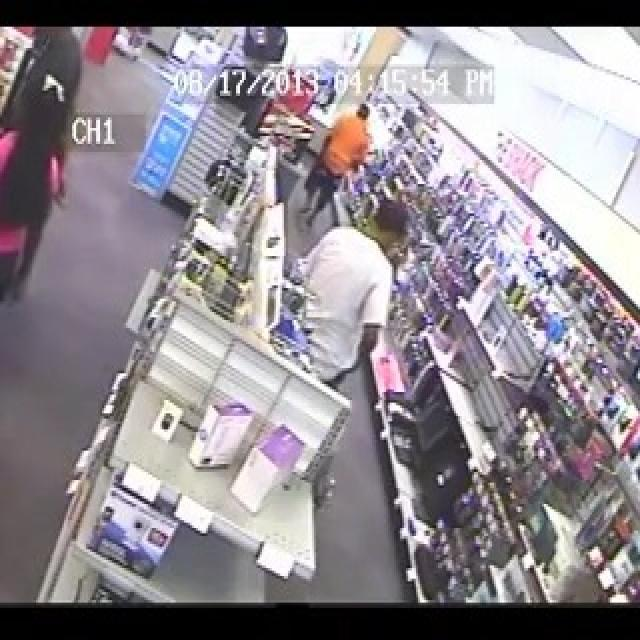normal: (291, 194, 410, 393), (2, 68, 71, 321), (295, 92, 373, 230)
